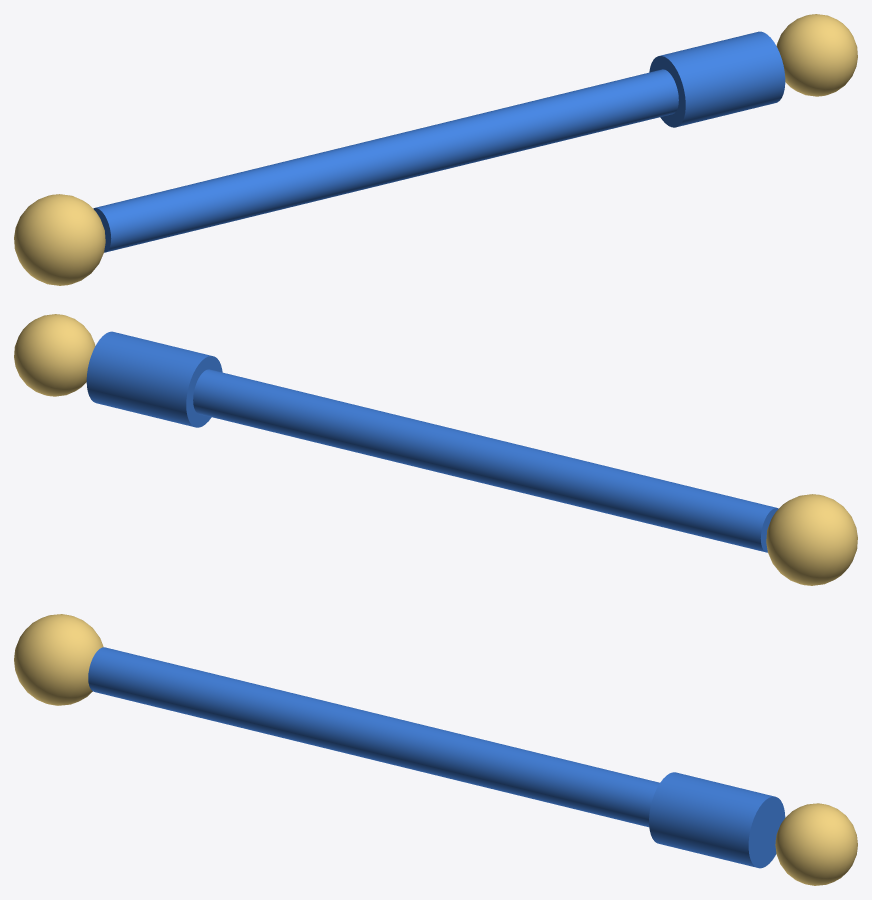
The model's file is tie_rod.glb.
3 views of the same model, one above another, from view 1: azimuth 30°, elevation 25°; view 2: azimuth 150°, elevation 25°; view 3: azimuth 330°, elevation 25° (orthographic).
Parts seen in each view (by area): view 1: tierod_0, ball_1; view 2: tierod_0, ball_1; view 3: tierod_0, ball_1.
Boxes of the visible parts, bbox=[...] form: tierod_0: bbox=[93, 31, 785, 252]; ball_1: bbox=[14, 14, 857, 285]; tierod_0: bbox=[86, 331, 778, 552]; ball_1: bbox=[14, 314, 857, 585]; tierod_0: bbox=[88, 647, 785, 868]; ball_1: bbox=[14, 614, 857, 885].
Bounding box in the file's own units: 0.4181 × 0.04 × 0.04.
